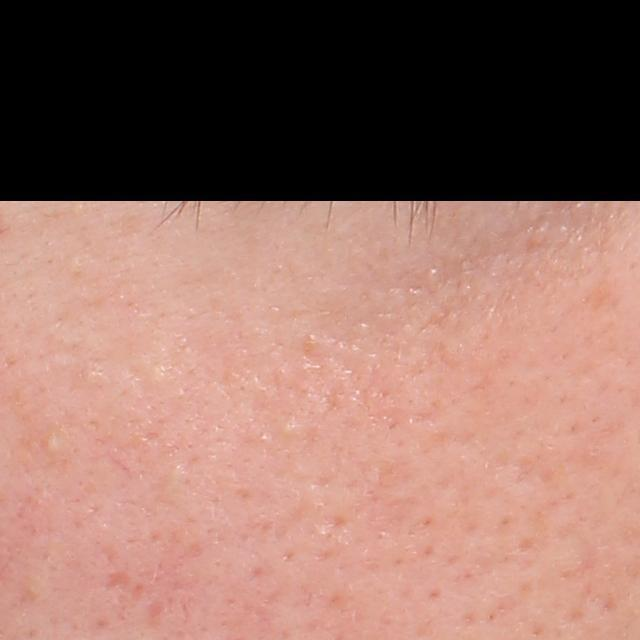atrophic_scar: (99, 568, 133, 597)
